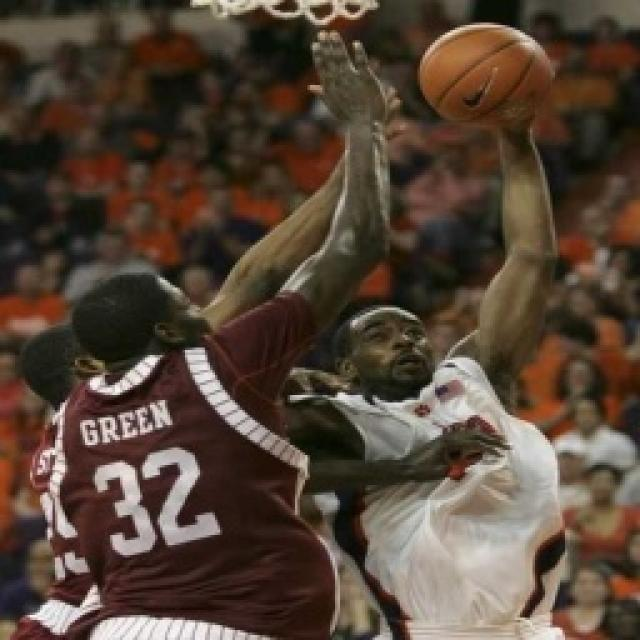rim: (414, 14, 564, 135)
